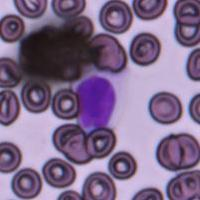M: (73, 66, 127, 133)
